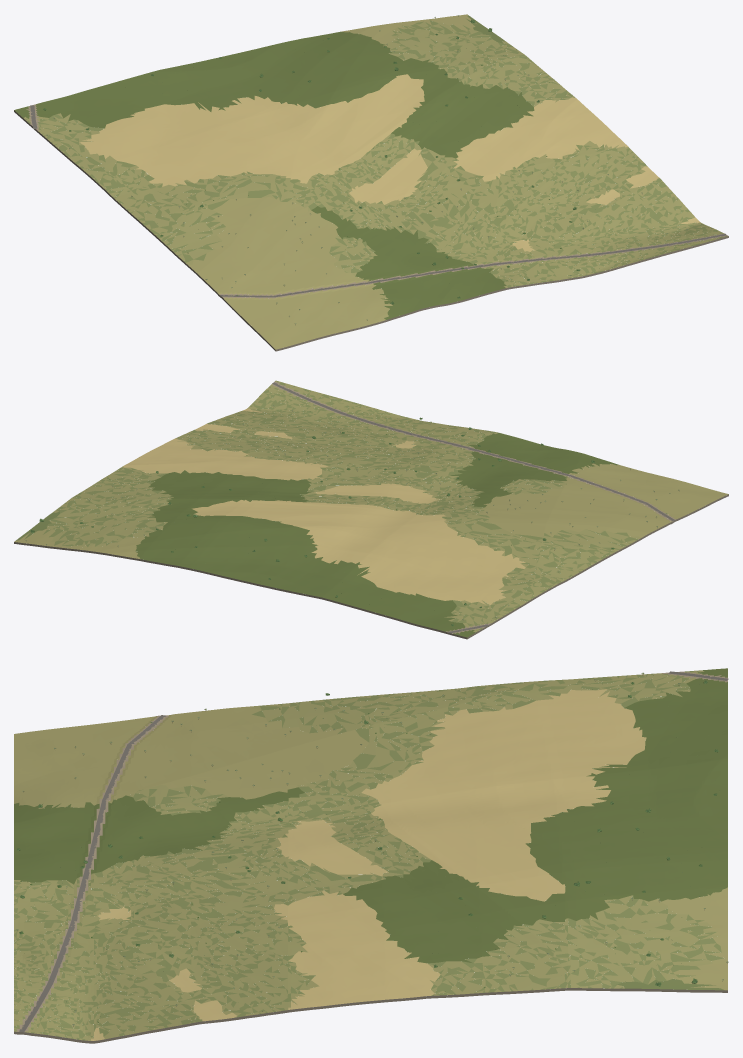
Rendered from parca_+0_-8-yakin.glb.
3 views of the same model, one above another, from view 1: azimuth 30°, elevation 25°; view 2: azimuth 150°, elevation 25°; view 3: azimuth 270°, elevation 25° (orthographic). The views are drawn at different scales.
Parts seen in each view (by area): view 1: parca_+0_-8_arazi, parca_+0_-8_yollar, parca_+0_-8_bitkiler; view 2: parca_+0_-8_arazi, parca_+0_-8_yollar, parca_+0_-8_bitkiler; view 3: parca_+0_-8_arazi, parca_+0_-8_yollar, parca_+0_-8_bitkiler.
Part boxes in pixels (x1,y1,x2,y2): parca_+0_-8_arazi: (14,14,728,351); parca_+0_-8_yollar: (30,105,726,297); parca_+0_-8_bitkiler: (43,15,688,324); parca_+0_-8_arazi: (14,380,728,639); parca_+0_-8_yollar: (272,382,674,633); parca_+0_-8_bitkiler: (25,399,679,626); parca_+0_-8_arazi: (14,668,727,1043); parca_+0_-8_yollar: (19,671,728,1032); parca_+0_-8_bitkiler: (17,672,728,1026).
Bounding box in the file's own units: 1004 × 127 × 1002.
